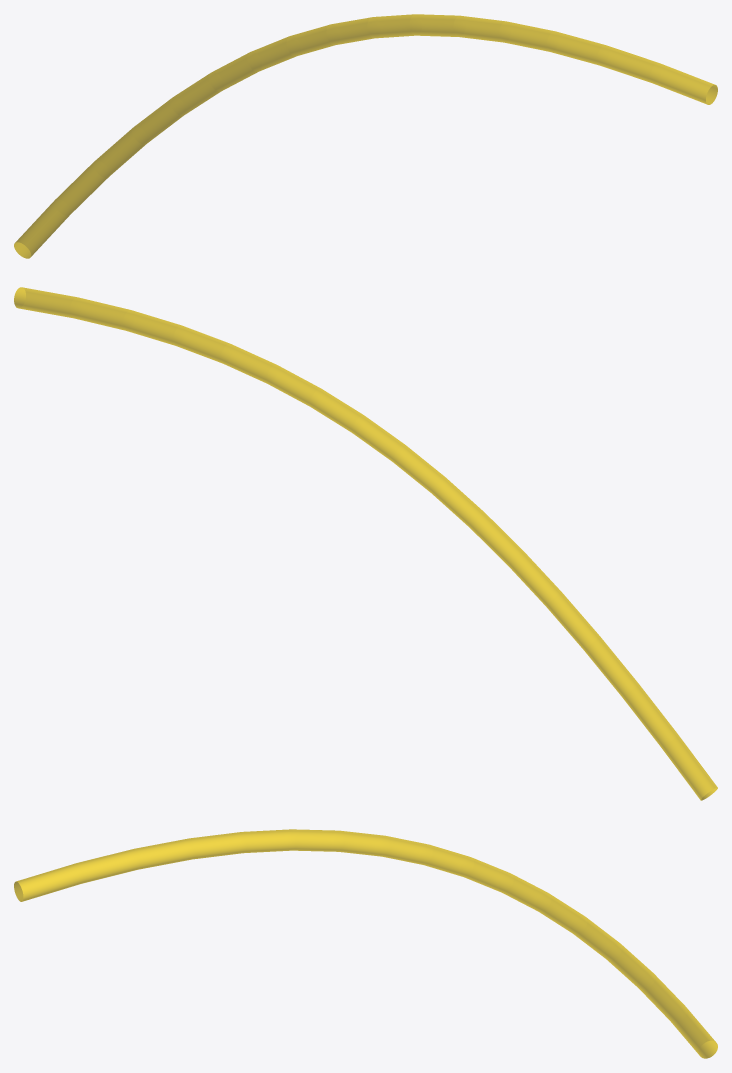
Rendered from Event_402970704_track_63.fbx.
3 views of the same model, one above another, from view 1: azimuth 30°, elevation 25°; view 2: azimuth 210°, elevation 25°; view 3: azimuth 270°, elevation 25° (orthographic).
Parts seen in each view (by area): view 1: Model; view 2: Model; view 3: Model.
Part boxes in pixels (<box>): Model: <box>14,14,717,258</box>; Model: <box>14,287,717,800</box>; Model: <box>14,829,717,1058</box>.
Bounding box in the file's own units: 0.7728 × 0.7198 × 1.32.
